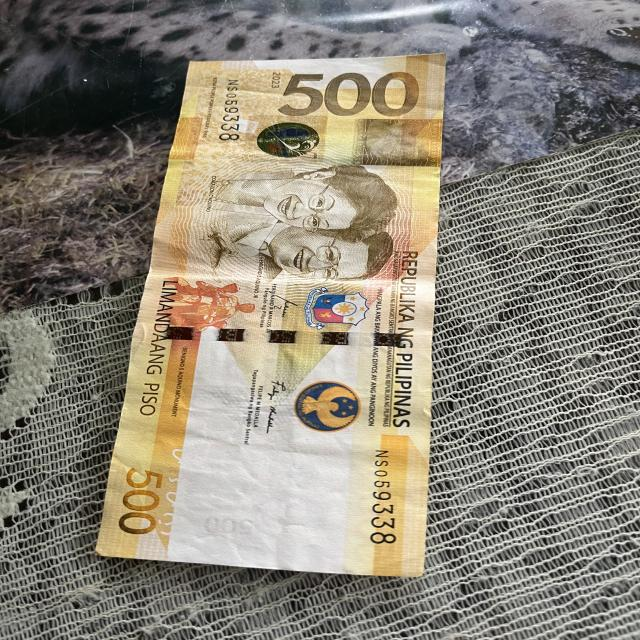concealed_value: (352, 118, 442, 166)
optically_variable_device: (247, 115, 326, 161)
security_thread: (133, 325, 433, 349)
see_through_mark: (151, 445, 200, 540)
serial_number: (359, 439, 404, 548), (216, 72, 246, 151)
value: (275, 72, 422, 117)
value_watermark: (200, 514, 257, 539)
watermark: (186, 426, 370, 553)
